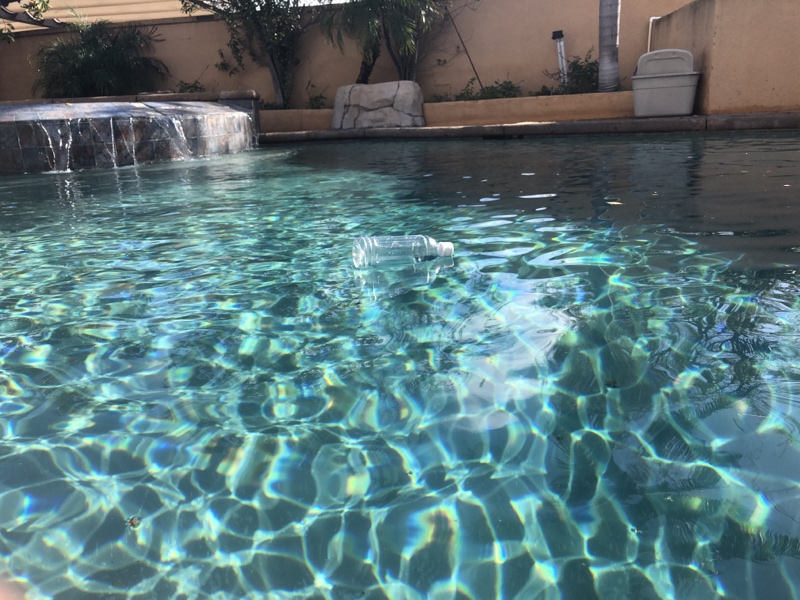Plastic Bottle: (350, 235, 456, 270)
